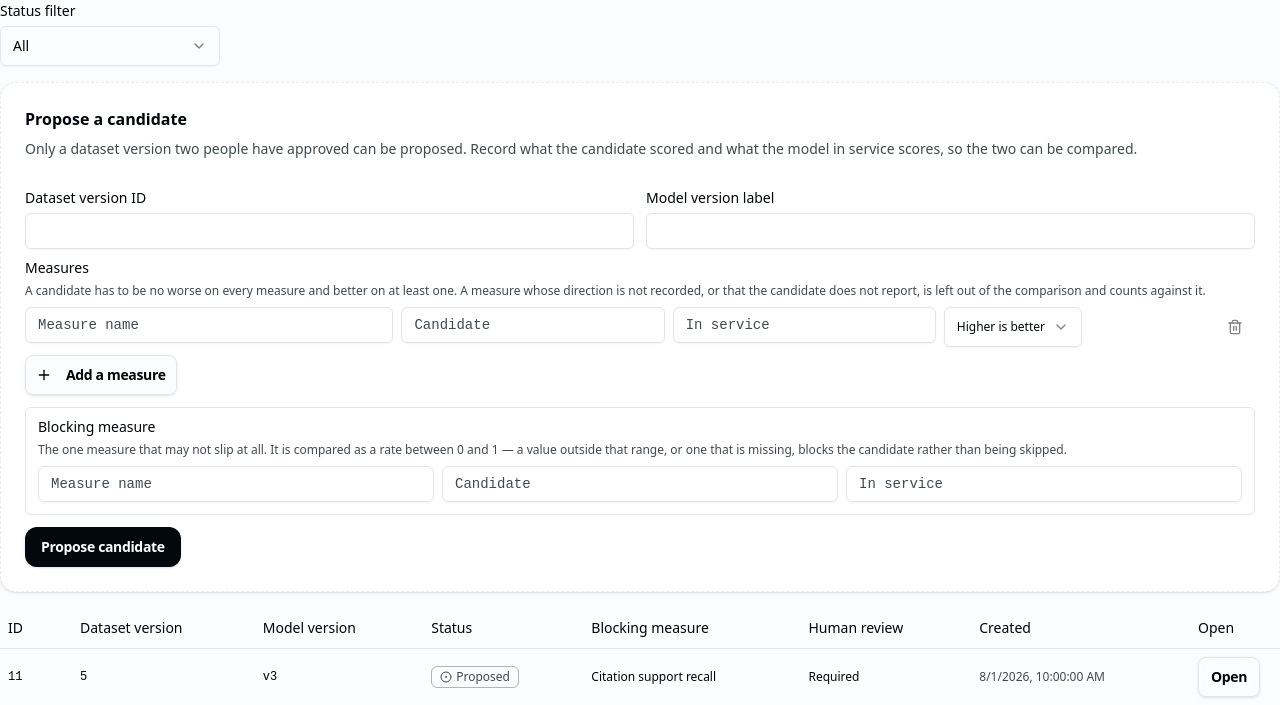
Test: KnowledgeDeploymentConveyor › does not offer a rollout on a candidate that has not been checked
(page scrolled)
Click the button "Open". click: (1229, 676)
box: [1198,656,1260,696]
(page scrolled)
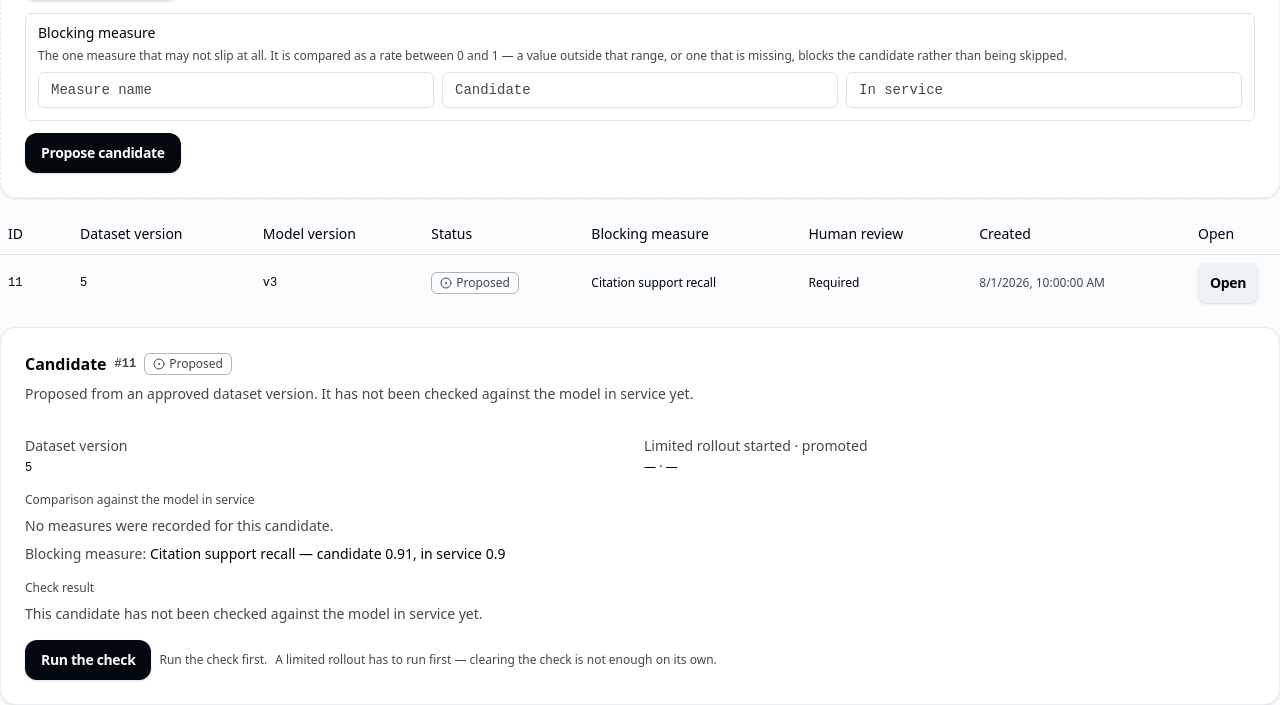
expect the button "Run the check" is shown: met, box [25,640,152,680]
expect the text "Run the check first." is shown: met, box [160,652,267,668]
